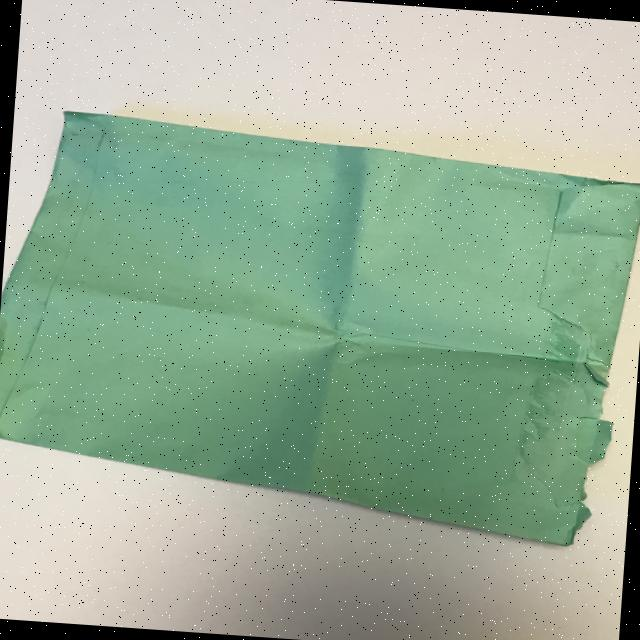paper: (0, 105, 640, 550)
